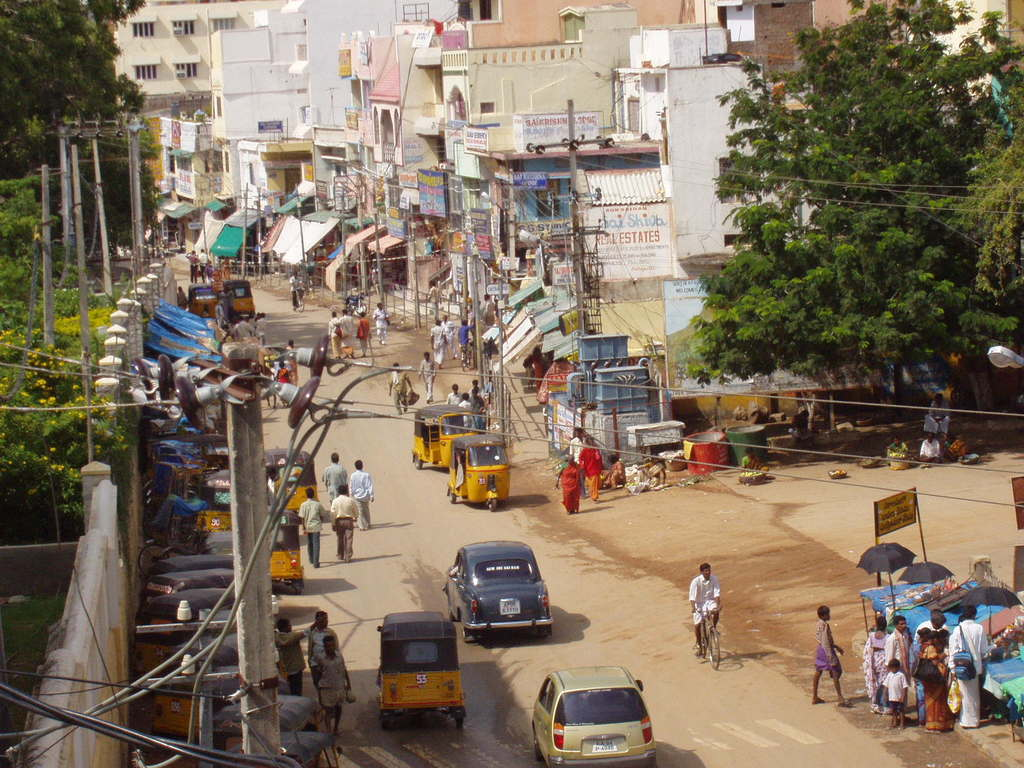cars: (441, 539, 552, 641), (536, 667, 656, 760)
